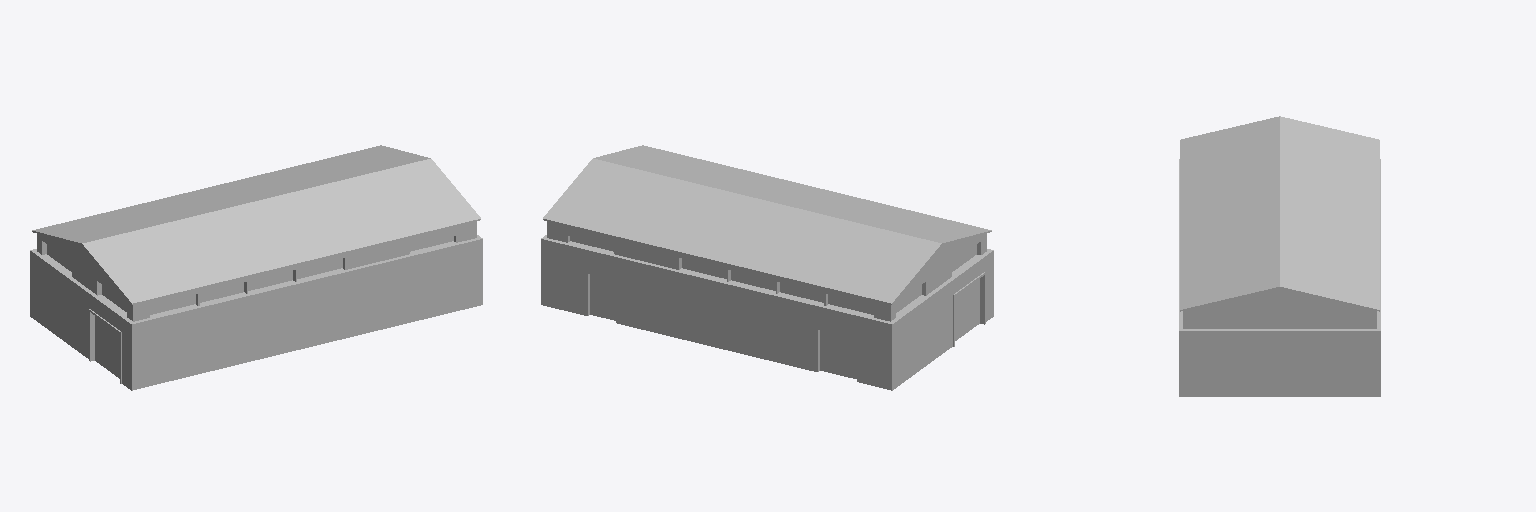
File: Building_12.obj
3 renders of one model, left to right at view 1: azimuth 30°, elevation 25°; view 2: azimuth 150°, elevation 25°; view 3: azimuth 270°, elevation 25°, orthographic.
Visible parts, largest first — view 1: Building_12; view 2: Building_12; view 3: Building_12.
Part boxes in pixels (x1,y1,x2,y2): Building_12: (30,145,482,390); Building_12: (541,145,993,390); Building_12: (1179,116,1380,396).
Size of the model in its own units: 26.59 by 7.9 by 13.23.